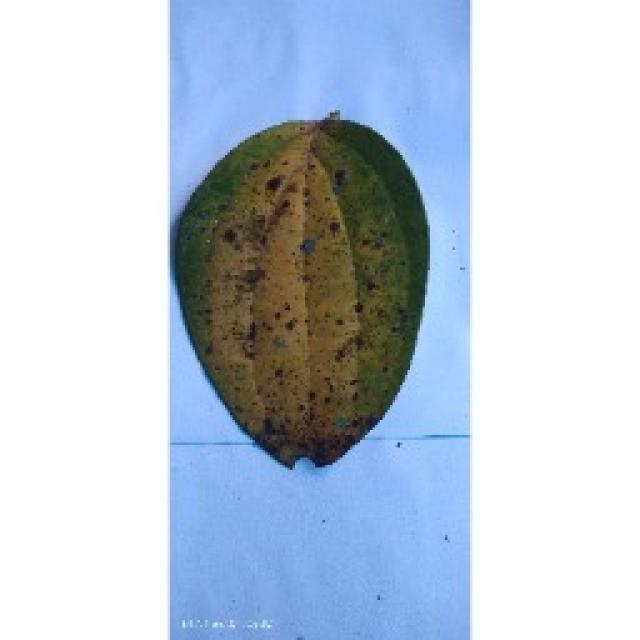slow-decline: (170, 110, 430, 468)
